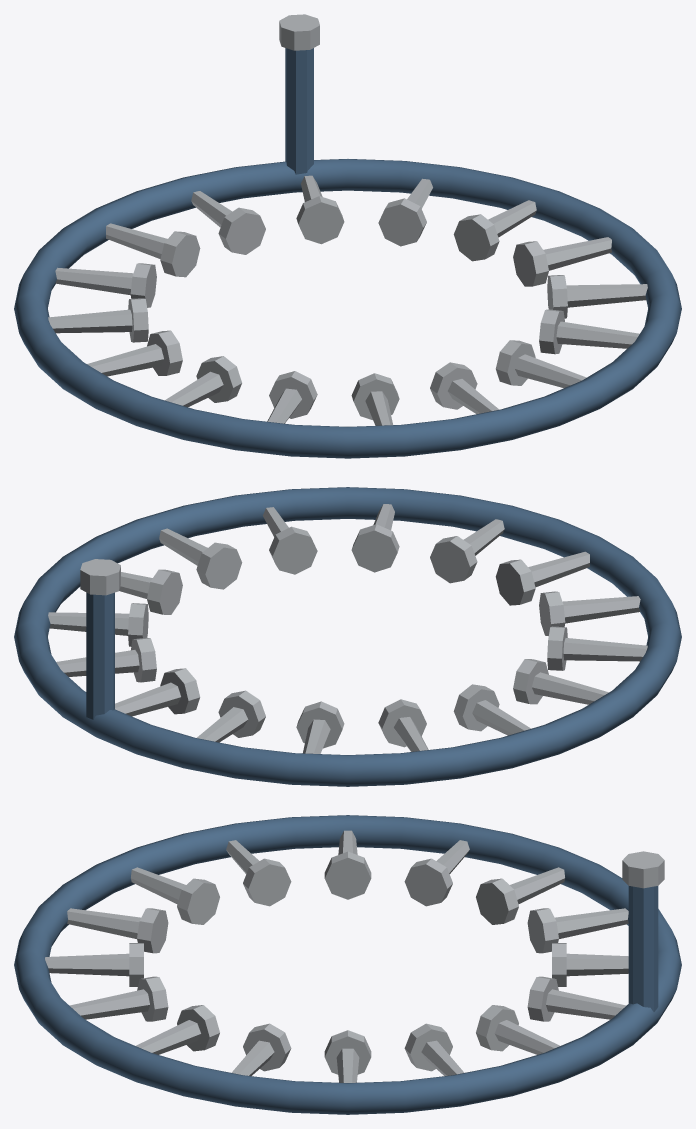
Rendered from fuelmanifold_basic.glb.
The picture shows the model from 3 angles, top to bottom: view 1: azimuth 30°, elevation 25°; view 2: azimuth 150°, elevation 25°; view 3: azimuth 270°, elevation 25°; orthographic projection.
Visible parts, largest first — view 1: fuelmanifold_basic; view 2: fuelmanifold_basic; view 3: fuelmanifold_basic.
Part boxes in pixels (x1,y1,x2,y2): fuelmanifold_basic: [14, 14, 681, 458]; fuelmanifold_basic: [14, 487, 681, 786]; fuelmanifold_basic: [14, 815, 681, 1114].
Bounding box in the file's own units: 0.2528 × 0.0728 × 0.2528.
